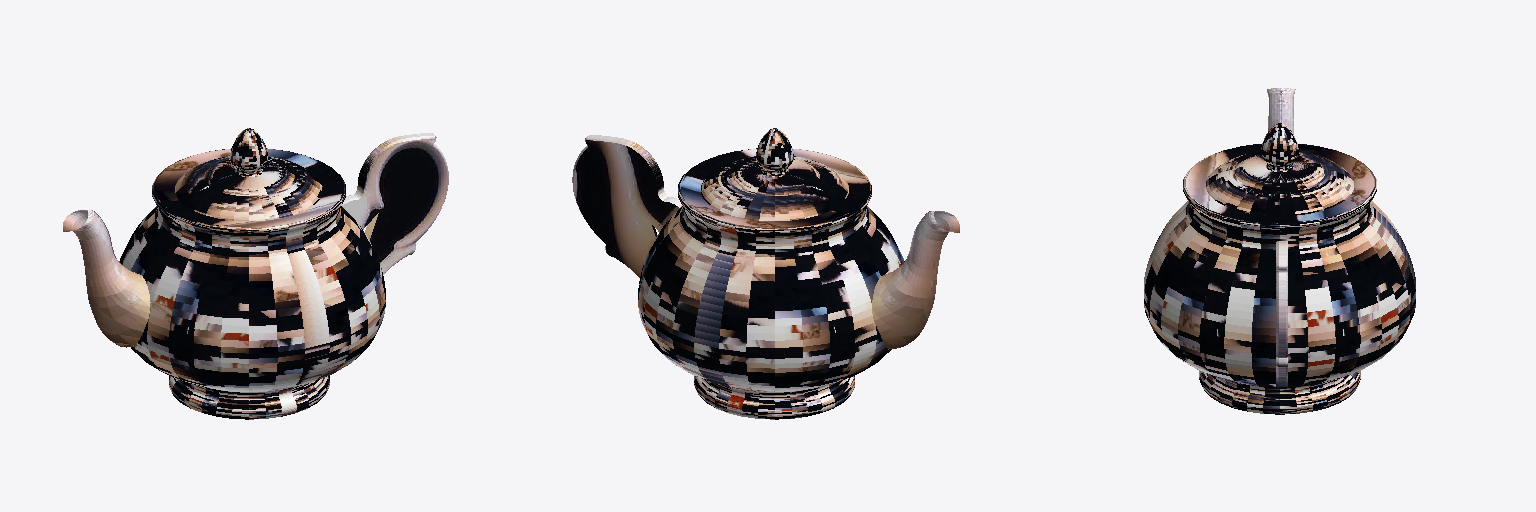
3 views of the same model, side by side, from view 1: azimuth 30°, elevation 25°; view 2: azimuth 150°, elevation 25°; view 3: azimuth 270°, elevation 25° (orthographic).
Parts seen in each view (by area): view 1: Mesh5 Group5 Group3 Group1 TeaPot3rd1 Model, Mesh4 Group4 Group3 Group1 TeaPot3rd1 Model, Mesh1 Group2 Group1 TeaPot3rd1 Model; view 2: Mesh5 Group5 Group3 Group1 TeaPot3rd1 Model, Mesh4 Group4 Group3 Group1 TeaPot3rd1 Model, Mesh1 Group2 Group1 TeaPot3rd1 Model; view 3: Mesh5 Group5 Group3 Group1 TeaPot3rd1 Model, Mesh4 Group4 Group3 Group1 TeaPot3rd1 Model, Mesh1 Group2 Group1 TeaPot3rd1 Model.
Part boxes in pixels (x1,y1,x2,y2): Mesh5 Group5 Group3 Group1 TeaPot3rd1 Model: (119, 128, 385, 419); Mesh4 Group4 Group3 Group1 TeaPot3rd1 Model: (341, 133, 448, 274); Mesh1 Group2 Group1 TeaPot3rd1 Model: (63, 210, 150, 347); Mesh5 Group5 Group3 Group1 TeaPot3rd1 Model: (638, 128, 904, 419); Mesh4 Group4 Group3 Group1 TeaPot3rd1 Model: (572, 135, 682, 277); Mesh1 Group2 Group1 TeaPot3rd1 Model: (872, 211, 959, 349); Mesh5 Group5 Group3 Group1 TeaPot3rd1 Model: (1144, 123, 1415, 414); Mesh4 Group4 Group3 Group1 TeaPot3rd1 Model: (1276, 241, 1287, 388); Mesh1 Group2 Group1 TeaPot3rd1 Model: (1267, 88, 1295, 133).
Bounding box in the file's own units: 57.72 × 36.91 × 35.45.
Materials: 4 (2 with a texture image).